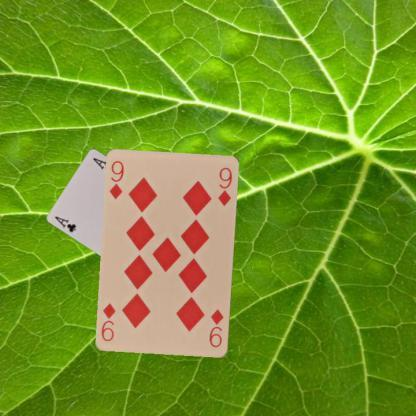9d: (107, 158, 126, 200), (207, 307, 225, 349)
Ac: (52, 214, 78, 234)
